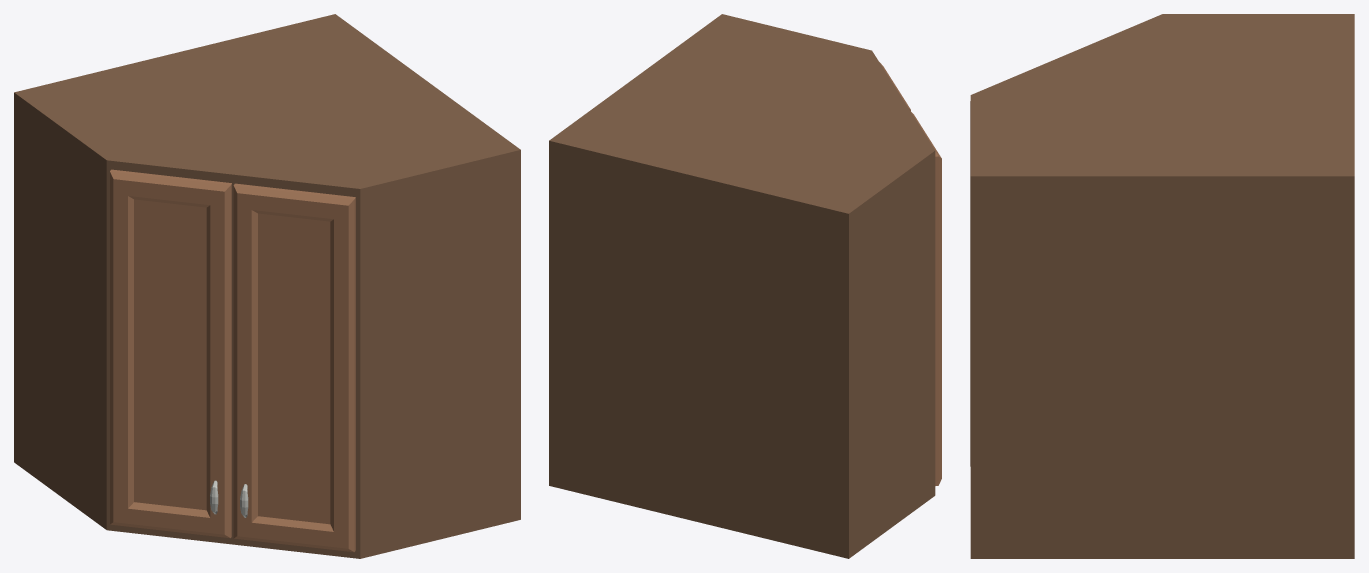
The model's file is Structure_Kitchen_Cabinet_Wall_Corner.obj.
3 renders of one model, left to right at view 1: azimuth 30°, elevation 25°; view 2: azimuth 150°, elevation 25°; view 3: azimuth 270°, elevation 25°, orthographic. The views are drawn at different scales.
Visible parts, largest first — view 1: object1, object3, object2; view 2: object1, object2; view 3: object1.
Part boxes in pixels (x1=…): object1: x1=14, y1=14, x2=520, y2=558; object3: x1=233, y1=183, x2=355, y2=552; object2: x1=110, y1=169, x2=231, y2=538; object1: x1=549, y1=14, x2=935, y2=558; object2: x1=910, y1=111, x2=941, y2=485; object1: x1=970, y1=14, x2=1354, y2=558.
Size of the model in its own units: 1 by 1.1 by 1.
